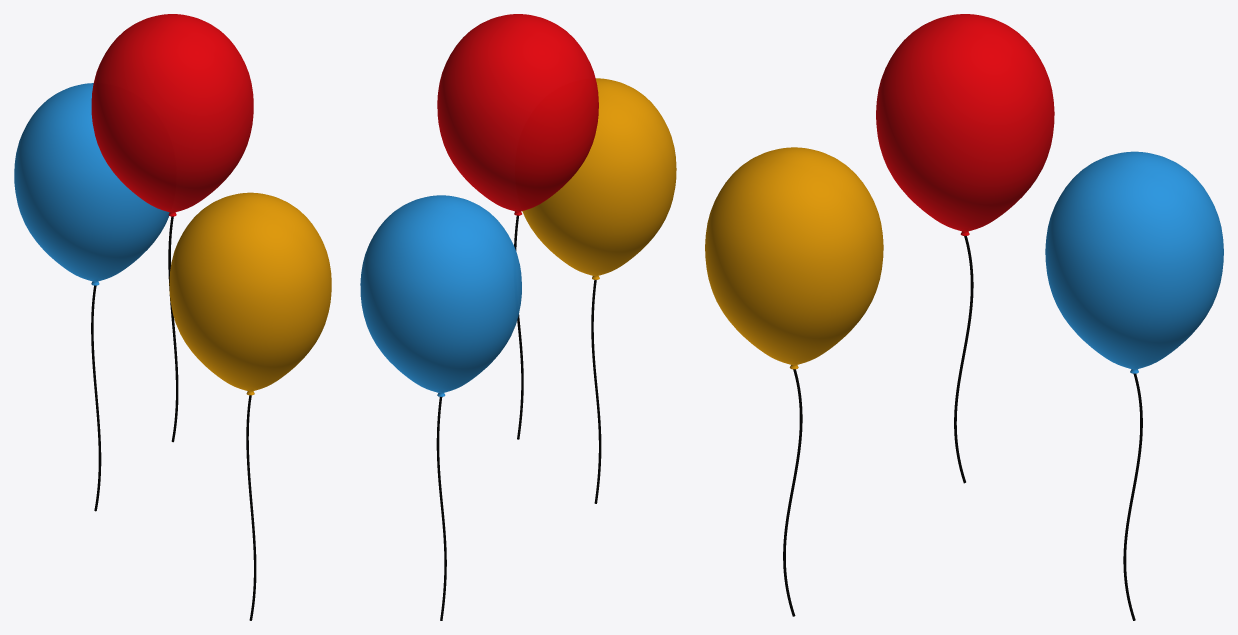
The model's file is uploads_files_3265812_Balloon.fbx.
3 views of the same model, side by side, from view 1: azimuth 30°, elevation 25°; view 2: azimuth 150°, elevation 25°; view 3: azimuth 270°, elevation 25° (orthographic). The views are drawn at different scales.
Parts seen in each view (by area): view 1: Sphere.001, Sphere, Sphere.002, NurbsPath.002, NurbsPath.001, NurbsPath; view 2: Sphere.002, Sphere, Sphere.001, NurbsPath.002, NurbsPath.001, NurbsPath; view 3: Sphere.001, Sphere.002, Sphere, NurbsPath.001, NurbsPath.002, NurbsPath.
Part boxes in pixels (x1,y1,x2,y2): Sphere.001: [169, 192, 331, 395]; Sphere: [91, 14, 253, 216]; Sphere.002: [14, 83, 169, 285]; NurbsPath.002: [91, 285, 101, 511]; NurbsPath.001: [246, 395, 256, 620]; NurbsPath: [168, 216, 178, 442]; Sphere.002: [360, 195, 521, 396]; Sphere: [437, 14, 598, 215]; Sphere.001: [522, 78, 676, 279]; NurbsPath.002: [436, 397, 446, 620]; NurbsPath.001: [591, 280, 601, 503]; NurbsPath: [514, 215, 523, 439]; Sphere.001: [705, 147, 883, 369]; Sphere.002: [1045, 151, 1223, 373]; Sphere: [876, 14, 1054, 235]; NurbsPath.001: [783, 369, 802, 616]; NurbsPath.002: [1123, 373, 1142, 620]; NurbsPath: [954, 236, 973, 483].
Size of the model in its own units: 260 by 966 by 757.
